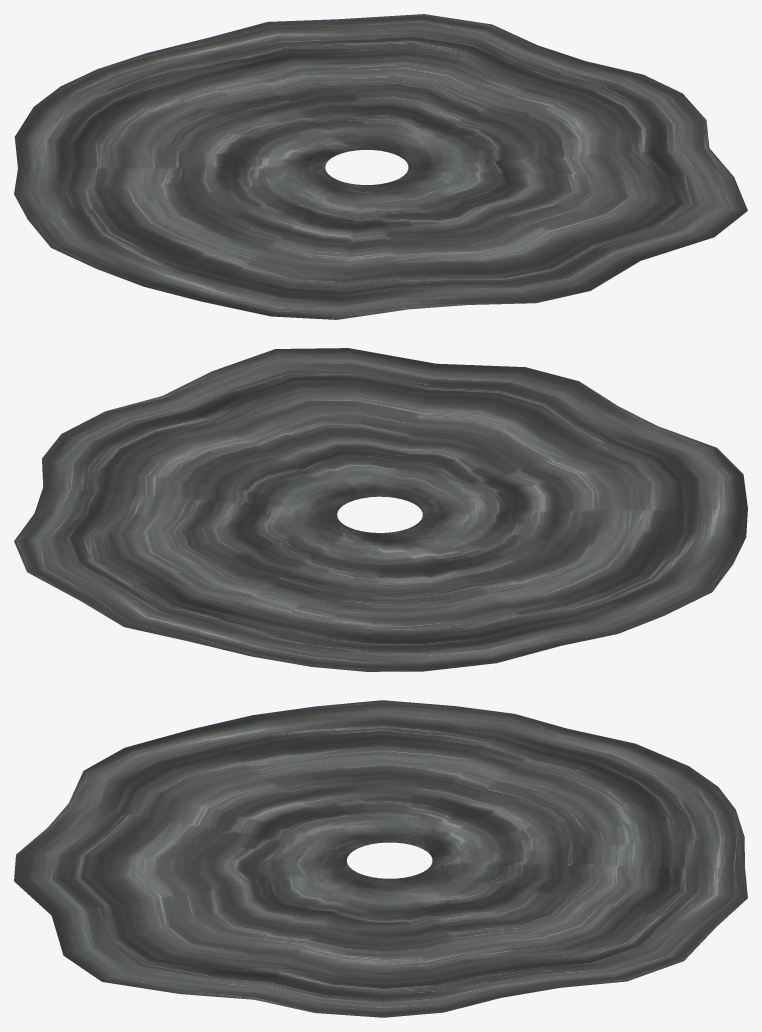
Rendered from water_ripples_med.dae.
3 views of the same model, one above another, from view 1: azimuth 30°, elevation 25°; view 2: azimuth 150°, elevation 25°; view 3: azimuth 270°, elevation 25° (orthographic). The views are drawn at different scales.
Parts seen in each view (by area): view 1: ripples; view 2: ripples; view 3: ripples.
Boxes of the visible parts, x1,y1,x2,y2 form: ripples: (14,14,747,319); ripples: (14,348,747,671); ripples: (14,700,747,1017).
Bounding box in the file's own units: 4.09 × 0 × 3.99.
